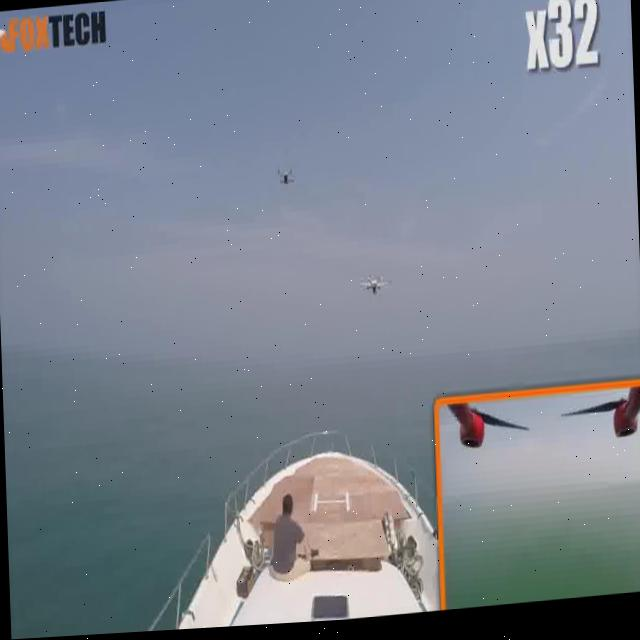drone: (356, 265, 386, 305), (270, 163, 302, 200)
